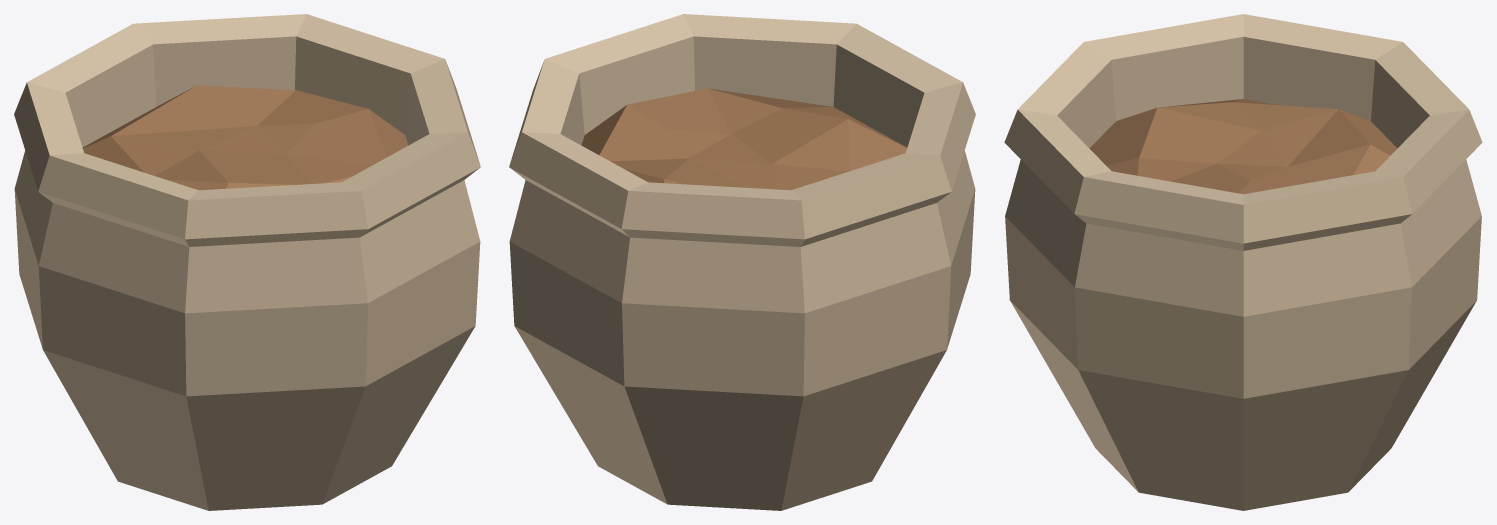
The model's file is SM_Env_Planter_Pot_07.fbx.
The picture shows the model from 3 angles, left to right: view 1: azimuth 30°, elevation 25°; view 2: azimuth 150°, elevation 25°; view 3: azimuth 270°, elevation 25°; orthographic projection.
Parts seen in each view (by area): view 1: SM_Env_Planter_Pot_07; view 2: SM_Env_Planter_Pot_07; view 3: SM_Env_Planter_Pot_07.
Boxes of the visible parts, x1,y1,x2,y2 form: SM_Env_Planter_Pot_07: (14,14,480,510); SM_Env_Planter_Pot_07: (509,14,975,510); SM_Env_Planter_Pot_07: (1004,14,1482,510).
Size of the model in its own units: 0.4221 by 0.3301 by 0.4221.
Materials: 1 (1 with a texture image).
